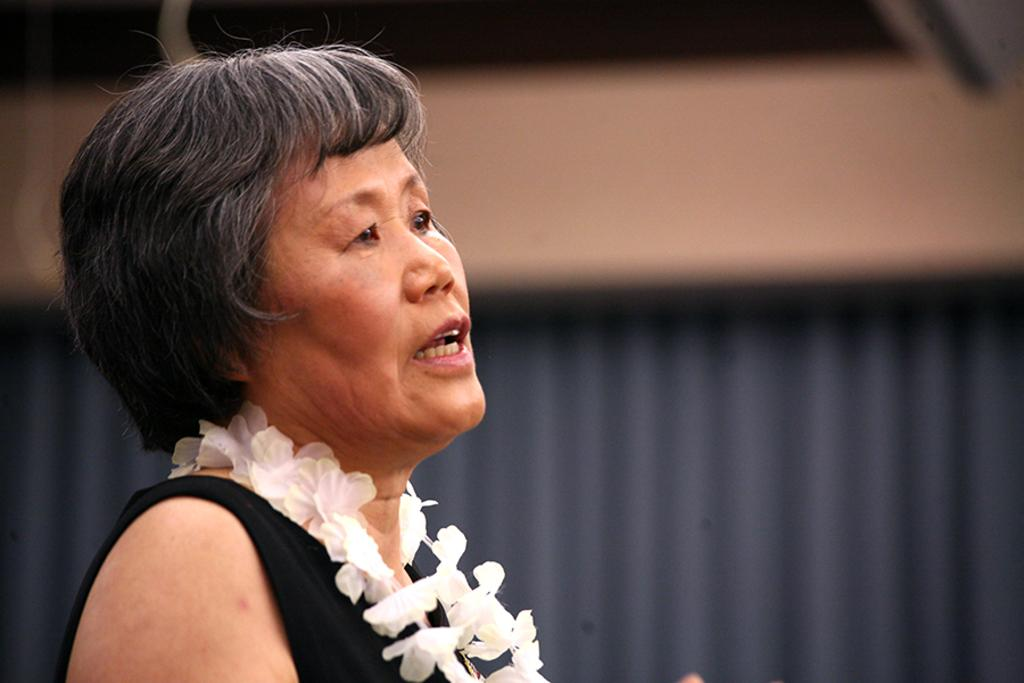Sem Máscara: (238, 114, 483, 434)
